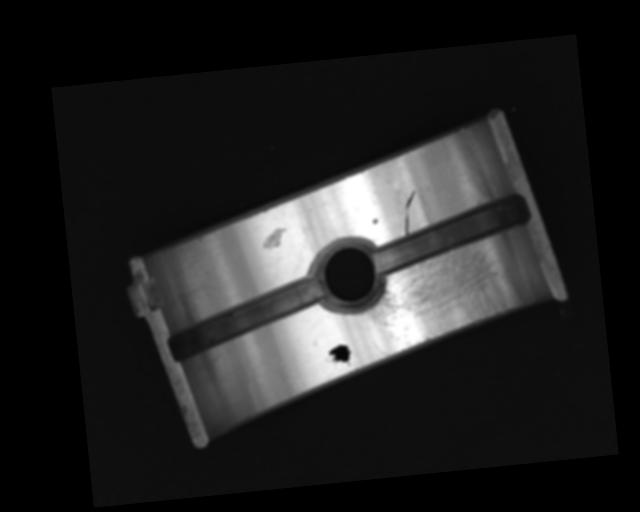blot: (323, 343, 353, 368)
bruise: (261, 227, 287, 250), (371, 216, 378, 224)
gap: (367, 191, 535, 276), (163, 275, 328, 361)
hole: (309, 235, 387, 315)
nick: (399, 189, 419, 235)
scratch: (354, 235, 528, 355)
